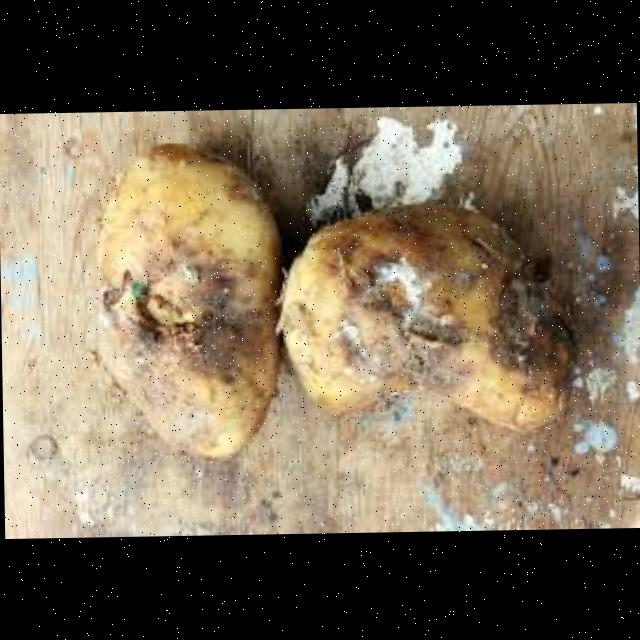Diseased-fungal potato: (258, 184, 610, 453), (89, 124, 302, 476)
